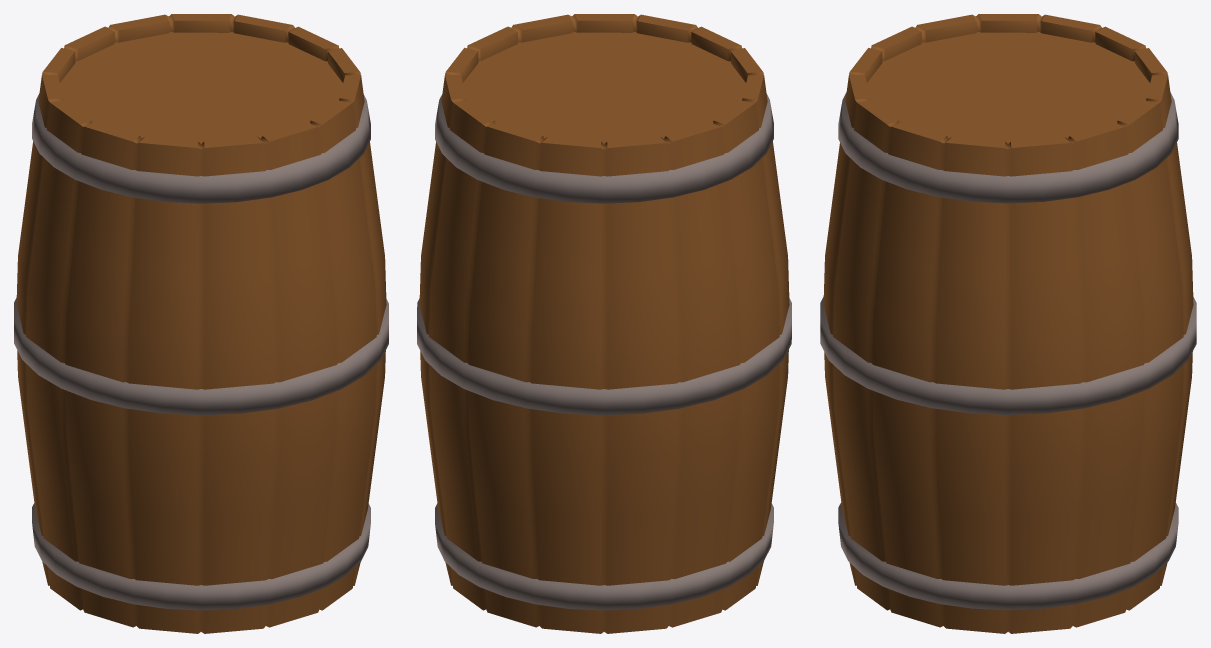
The model's file is barrell.fbx.
The picture shows the model from 3 angles, left to right: view 1: azimuth 30°, elevation 25°; view 2: azimuth 150°, elevation 25°; view 3: azimuth 270°, elevation 25°; orthographic projection.
Visible parts, largest first — view 1: Cylinder.008; view 2: Cylinder.008; view 3: Cylinder.008.
Boxes of the visible parts, bbox=[...] form: Cylinder.008: bbox=[14, 14, 388, 633]; Cylinder.008: bbox=[417, 14, 791, 633]; Cylinder.008: bbox=[820, 14, 1196, 633].
Size of the model in its own units: 281 by 400 by 281.
